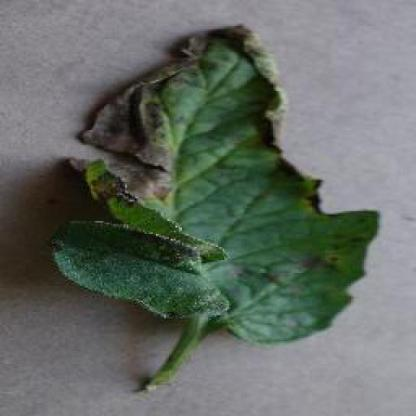Tomato_Blight: (49, 22, 380, 343)
